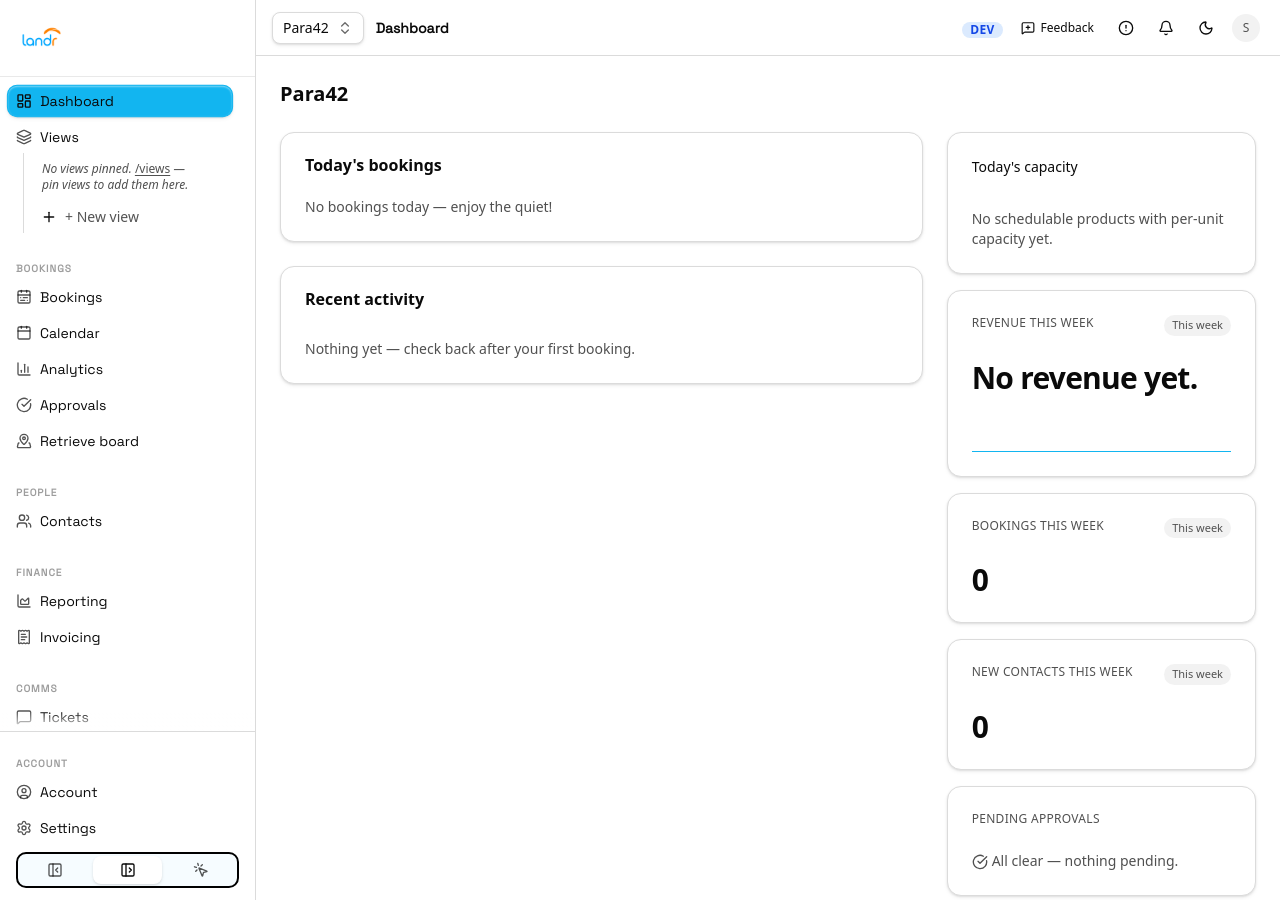
Test: Operator switcher › lists the operators returned by the membership query
Click the button with aria-label "operator".
click(318, 28)  # box [272,12,364,44]
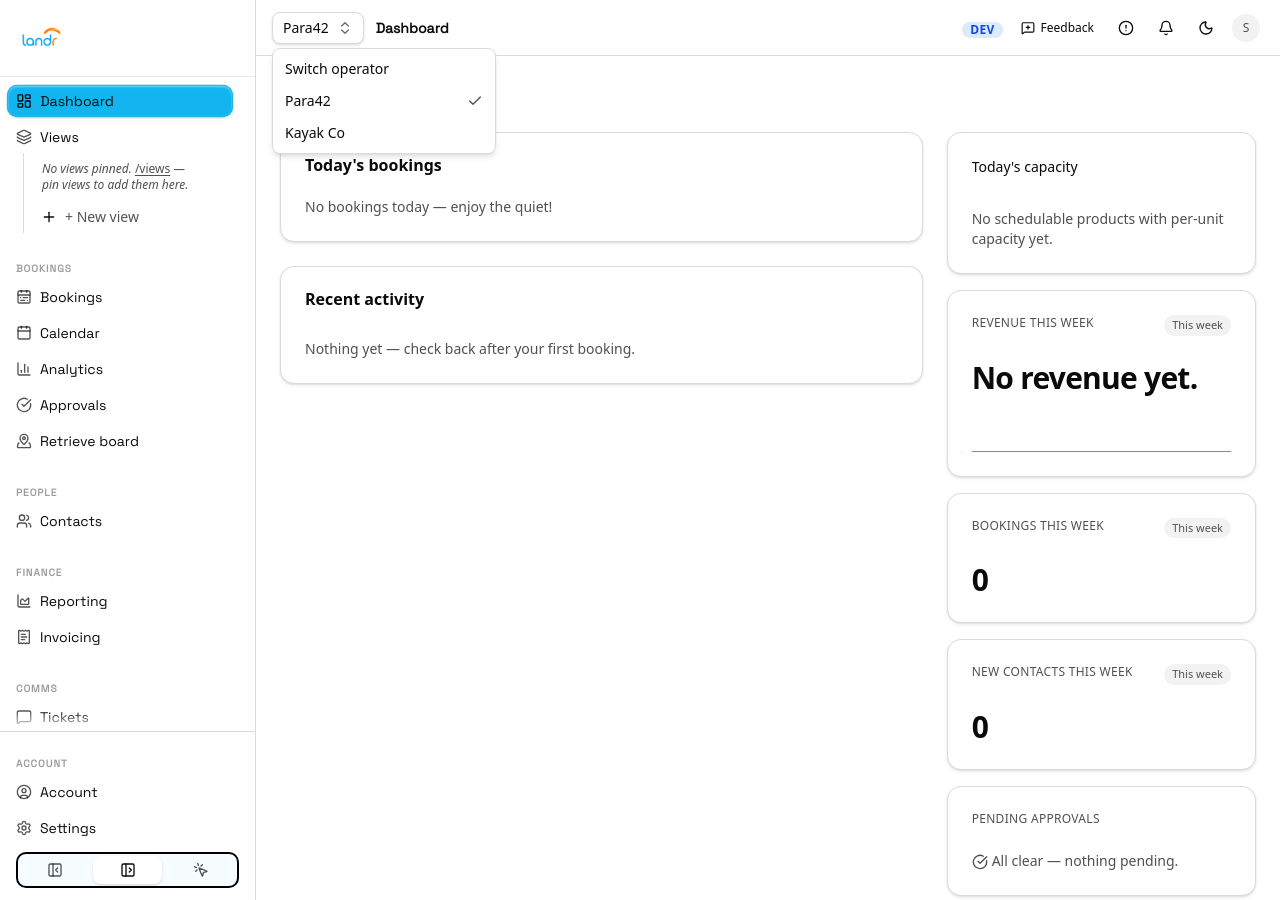
Expected: the menu item "Kayak Co" is shown, [285,123,345,142]
Expected: the menu item "Para42" is shown, [285,91,483,110]
